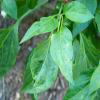Bell_pepper leaf: (30, 40, 61, 95), (50, 25, 75, 86), (18, 15, 59, 44), (63, 0, 96, 23)
